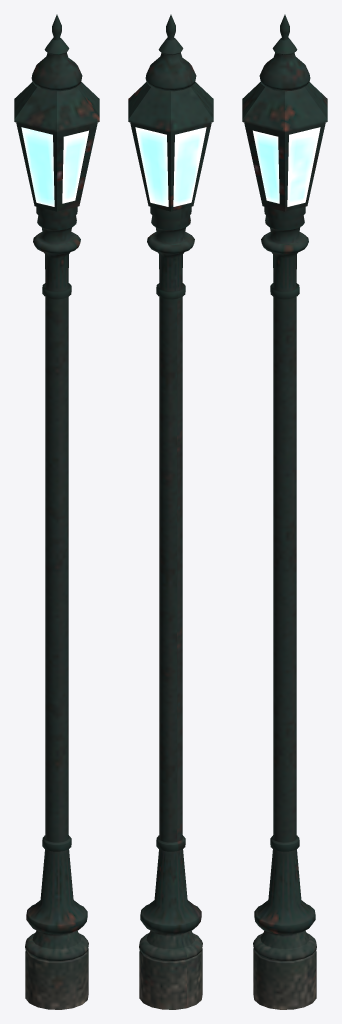
File: sm0026_streetlight01.fbx
3 renders of one model, left to right at view 1: azimuth 30°, elevation 25°; view 2: azimuth 210°, elevation 25°; view 3: azimuth 330°, elevation 25°, orthographic.
Parts seen in each view (by area): view 1: LOD_1_Group_0_Sub_2__sm0026_streetlight01_mat, LOD_1_Group_0_Sub_3__sm0026_streetlight01_alpha_mat; view 2: LOD_1_Group_0_Sub_2__sm0026_streetlight01_mat, LOD_1_Group_0_Sub_3__sm0026_streetlight01_alpha_mat; view 3: LOD_1_Group_0_Sub_2__sm0026_streetlight01_mat, LOD_1_Group_0_Sub_3__sm0026_streetlight01_alpha_mat.
Boxes of the visible parts, box(x1,y1,x2,y2) form: LOD_1_Group_0_Sub_2__sm0026_streetlight01_mat: box(14, 14, 99, 1009); LOD_1_Group_0_Sub_3__sm0026_streetlight01_alpha_mat: box(21, 127, 88, 206); LOD_1_Group_0_Sub_2__sm0026_streetlight01_mat: box(128, 14, 213, 1009); LOD_1_Group_0_Sub_3__sm0026_streetlight01_alpha_mat: box(135, 127, 206, 206); LOD_1_Group_0_Sub_2__sm0026_streetlight01_mat: box(242, 14, 327, 1009); LOD_1_Group_0_Sub_3__sm0026_streetlight01_alpha_mat: box(253, 127, 320, 206).
Bounding box in the file's own units: 74.68 × 824 × 64.68.
